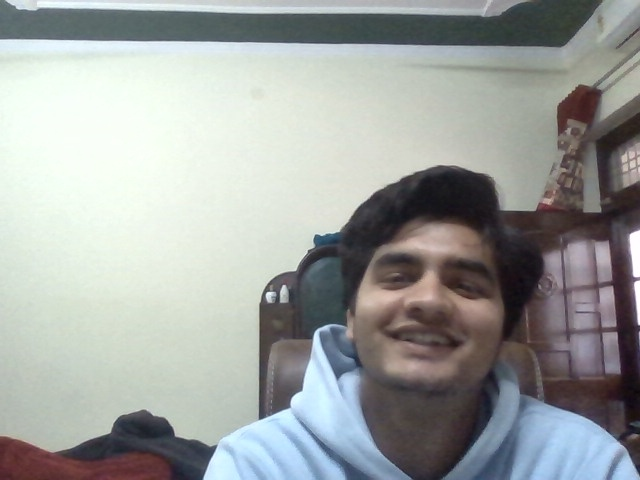joy: (384, 239, 491, 378)
open Eye: (454, 278, 486, 299), (383, 271, 412, 286)
